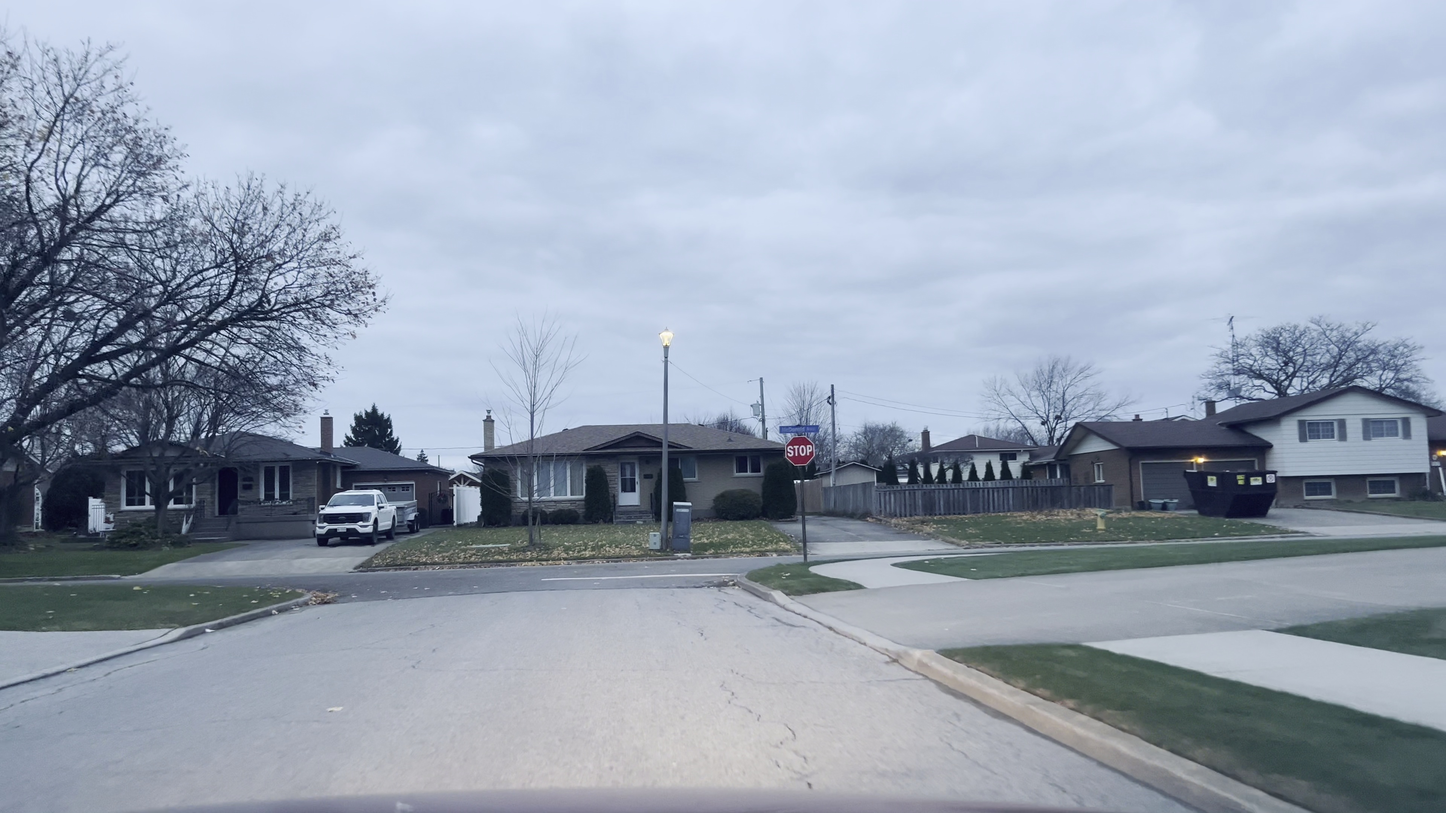cracks: (717, 677, 816, 791)
